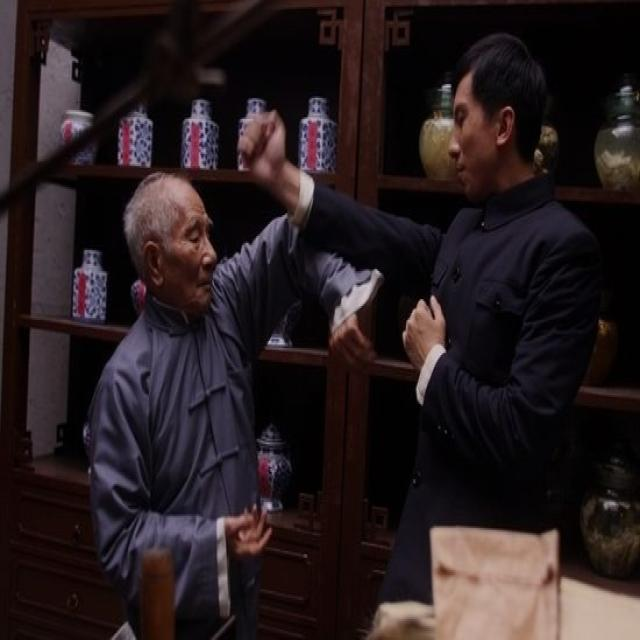fight: (60, 2, 639, 638)
